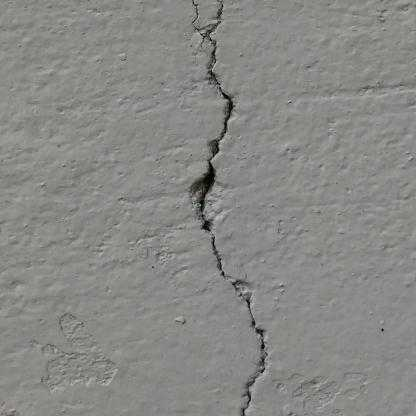crack: (190, 0, 269, 411)
